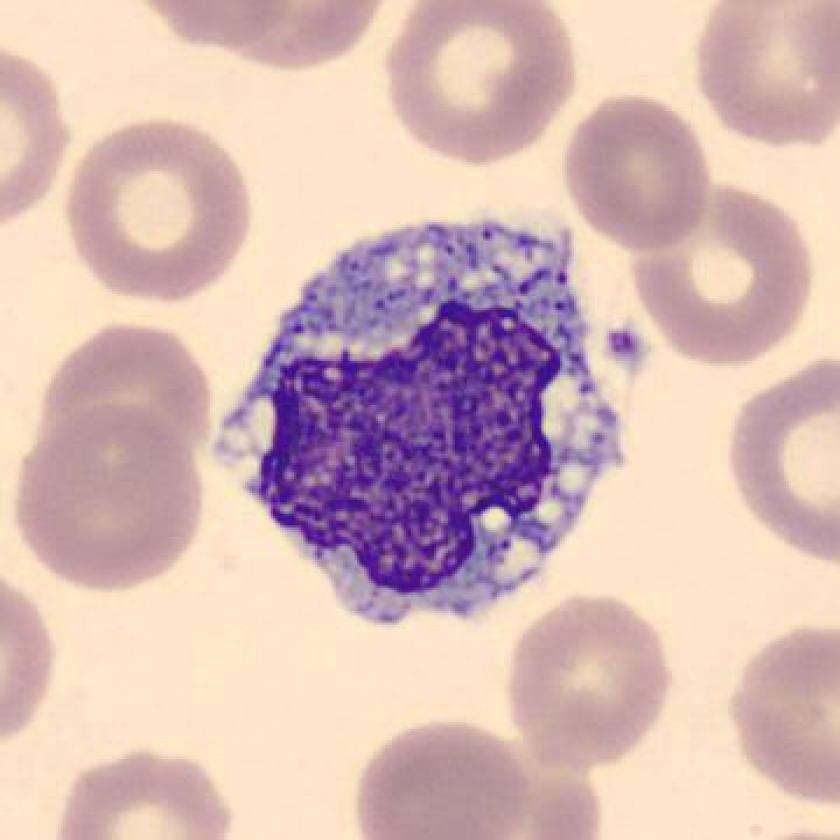monocyte: (195, 205, 643, 647)
